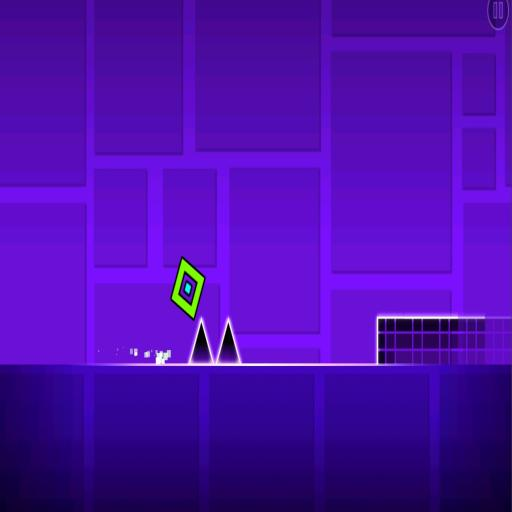block: (373, 312, 512, 363)
player: (170, 257, 205, 319)
spike: (215, 317, 241, 364), (189, 320, 213, 363)
